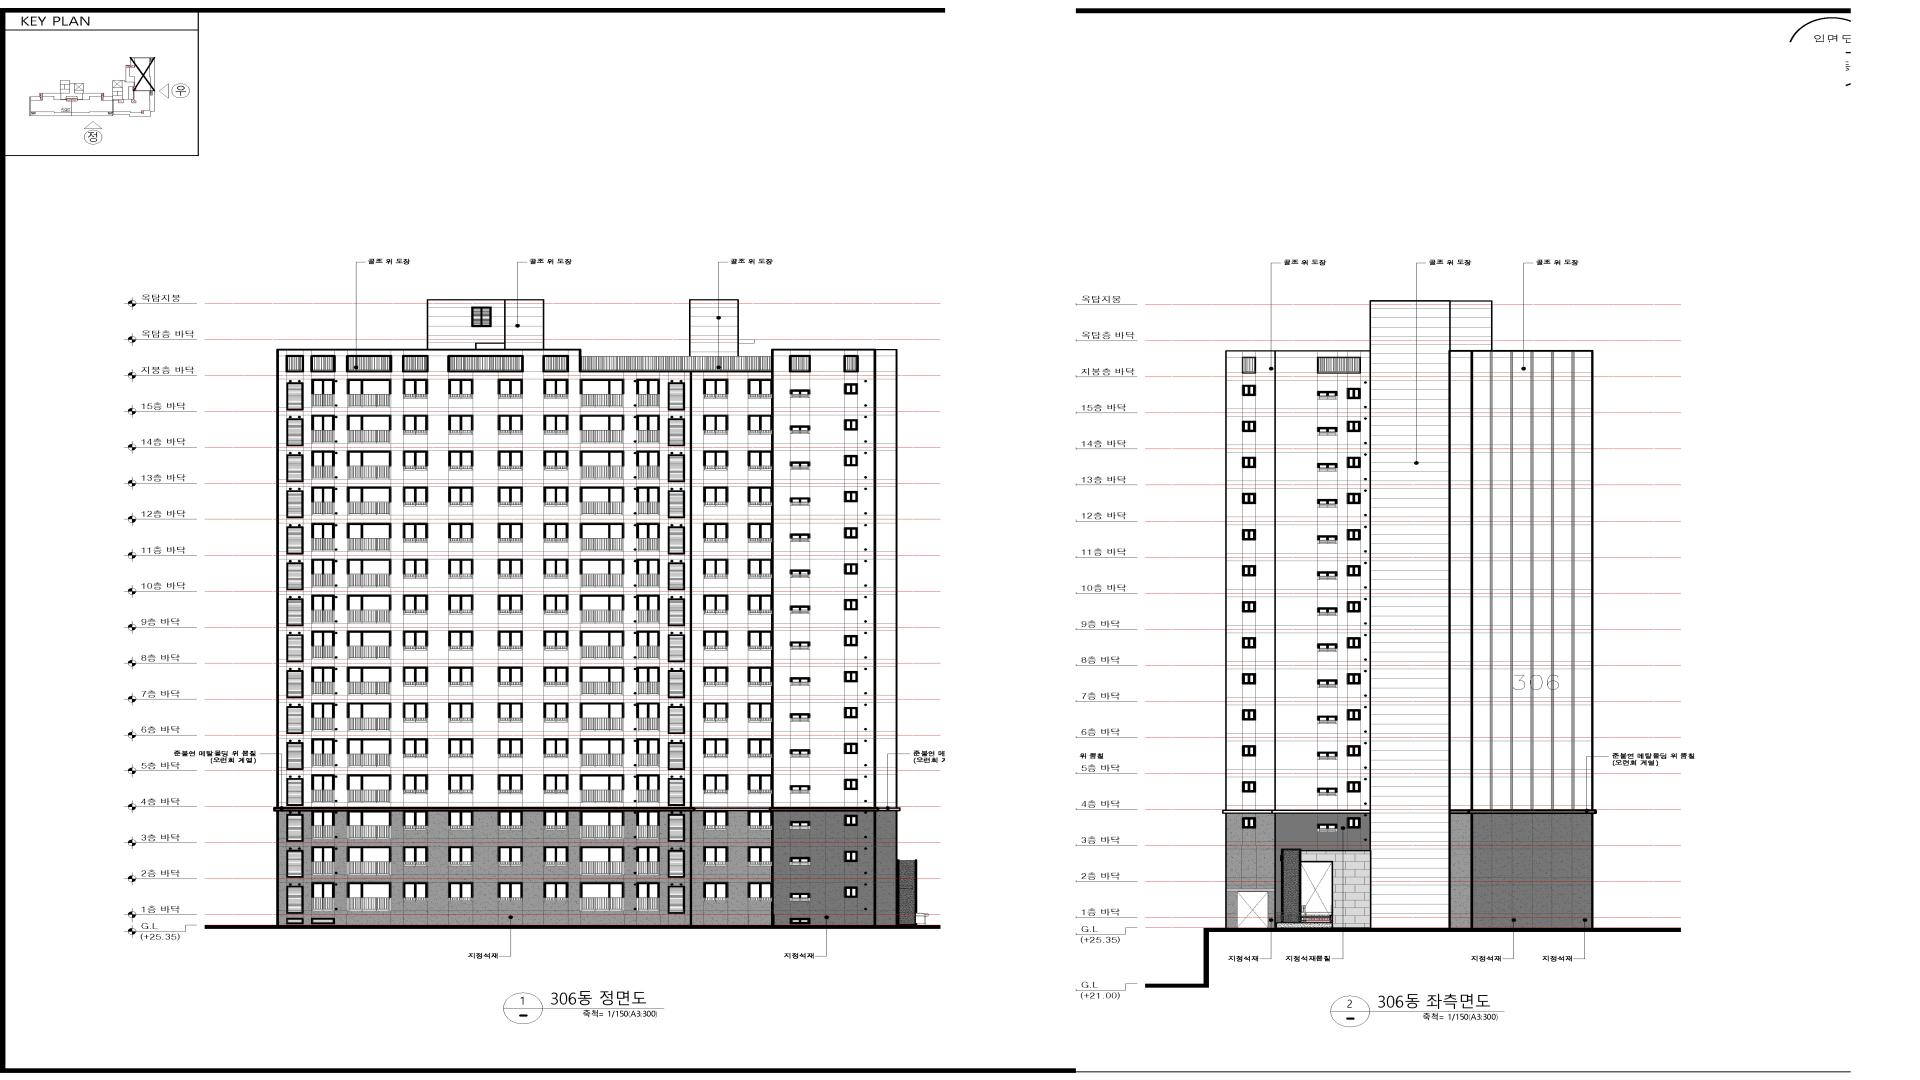door: (1300, 861, 1333, 918), (1237, 892, 1268, 928)
wall: (276, 299, 899, 929), (1226, 300, 1593, 932)
window: (447, 355, 524, 372), (580, 378, 625, 407), (347, 415, 392, 444), (347, 486, 392, 515), (347, 522, 392, 551), (347, 702, 392, 731), (347, 846, 392, 875), (347, 882, 391, 911), (580, 882, 624, 911), (580, 846, 624, 875), (580, 810, 624, 839), (580, 774, 624, 803), (580, 738, 624, 767), (580, 702, 624, 731), (580, 666, 624, 695), (580, 630, 624, 659), (580, 594, 624, 623), (580, 559, 624, 588), (580, 523, 624, 552), (580, 486, 624, 515), (580, 450, 624, 479), (580, 415, 624, 444), (347, 378, 391, 407), (347, 450, 391, 479), (347, 558, 391, 587), (347, 595, 391, 624), (347, 630, 391, 659), (347, 666, 391, 695), (347, 738, 391, 767), (347, 774, 391, 803), (347, 810, 391, 839), (346, 355, 393, 372), (1317, 357, 1361, 374), (311, 522, 335, 552), (311, 414, 335, 444), (311, 378, 335, 408), (636, 882, 660, 911), (636, 846, 660, 875), (636, 810, 660, 839), (636, 774, 660, 803), (636, 738, 660, 767), (636, 702, 660, 731), (636, 630, 660, 659), (636, 559, 660, 588), (636, 523, 660, 552), (636, 486, 660, 515), (636, 378, 660, 407), (311, 882, 335, 911), (311, 846, 335, 875), (311, 810, 335, 839), (311, 738, 335, 767), (312, 666, 336, 695), (312, 630, 336, 659), (311, 559, 335, 588), (311, 486, 335, 515), (311, 450, 335, 479), (312, 702, 335, 732), (312, 594, 335, 624), (636, 667, 660, 695), (636, 595, 660, 623), (636, 451, 660, 479), (636, 415, 660, 443), (312, 774, 335, 803), (286, 523, 304, 555), (286, 702, 304, 734), (286, 738, 304, 770), (286, 810, 304, 842), (286, 846, 304, 878), (286, 882, 304, 914), (286, 379, 304, 410), (286, 415, 304, 446), (286, 451, 304, 482), (286, 487, 304, 518), (286, 559, 304, 590), (286, 595, 304, 626), (286, 631, 304, 662), (286, 775, 304, 806), (668, 882, 685, 914), (668, 846, 685, 878), (668, 810, 685, 842), (668, 774, 685, 806), (668, 738, 685, 770), (668, 702, 685, 734), (668, 523, 685, 555), (668, 414, 685, 446), (668, 379, 685, 411), (287, 667, 304, 698), (668, 667, 685, 698), (668, 631, 685, 662), (668, 595, 685, 626), (668, 559, 685, 590), (668, 487, 685, 518), (668, 451, 685, 482), (403, 882, 429, 902), (497, 631, 523, 651), (497, 702, 523, 722), (543, 882, 569, 902), (543, 774, 569, 794), (543, 738, 569, 758), (543, 702, 569, 722), (543, 630, 569, 650), (497, 379, 523, 399), (497, 450, 523, 470), (497, 559, 523, 579), (747, 379, 773, 399), (747, 450, 773, 470), (747, 666, 773, 686), (747, 738, 773, 758), (747, 774, 773, 794), (747, 810, 773, 830), (747, 846, 773, 866), (747, 882, 773, 902), (403, 846, 428, 866), (403, 810, 428, 830), (498, 738, 523, 758), (498, 774, 523, 794), (498, 810, 523, 830), (498, 846, 523, 866), (498, 882, 523, 902), (543, 846, 568, 866), (544, 810, 569, 830), (543, 559, 568, 579), (543, 523, 568, 543), (543, 486, 568, 506), (543, 379, 568, 399), (703, 882, 728, 902), (703, 846, 728, 866), (703, 810, 728, 830), (703, 774, 728, 794), (703, 738, 728, 758), (703, 702, 728, 722), (703, 666, 728, 686), (703, 630, 728, 650), (703, 559, 728, 579), (703, 523, 728, 543), (403, 774, 428, 794), (403, 738, 428, 758), (403, 666, 428, 686), (403, 630, 428, 650), (403, 594, 428, 614), (403, 559, 428, 579), (403, 523, 428, 543), (403, 486, 428, 506), (403, 450, 428, 470), (448, 882, 473, 902), (448, 846, 473, 866), (448, 810, 473, 830), (448, 774, 473, 794), (448, 738, 473, 758), (448, 630, 473, 650), (448, 559, 473, 579), (448, 487, 473, 507), (448, 451, 473, 471), (448, 379, 473, 399), (498, 414, 523, 434), (498, 486, 523, 506), (498, 594, 523, 614), (703, 486, 728, 506), (703, 450, 728, 470), (703, 415, 728, 435), (703, 379, 728, 399), (748, 415, 773, 435), (747, 523, 772, 543), (748, 559, 773, 579), (543, 595, 569, 614), (543, 415, 569, 434), (448, 703, 474, 722), (747, 487, 773, 506), (747, 595, 773, 614), (747, 631, 773, 650), (498, 667, 523, 686), (543, 667, 568, 686), (543, 451, 568, 470), (703, 595, 728, 614), (403, 703, 428, 722), (403, 415, 428, 434), (403, 379, 428, 398), (448, 667, 473, 686), (448, 595, 473, 614), (448, 523, 473, 542), (448, 415, 473, 434), (498, 523, 523, 542), (748, 703, 773, 722), (402, 355, 429, 372), (310, 355, 336, 372), (543, 355, 569, 372), (471, 307, 492, 327), (789, 355, 811, 372), (286, 355, 304, 372), (843, 355, 859, 372), (1242, 357, 1256, 374), (789, 389, 810, 398), (1317, 571, 1338, 580), (1317, 607, 1338, 616), (1317, 643, 1338, 652), (790, 749, 810, 758), (790, 677, 810, 686), (790, 641, 810, 650), (790, 605, 810, 614), (790, 533, 810, 542), (790, 497, 810, 506), (790, 461, 810, 470), (790, 425, 810, 434), (844, 383, 858, 395), (844, 419, 858, 431), (844, 527, 858, 539), (844, 563, 858, 575), (789, 713, 810, 721), (1242, 817, 1256, 829), (1242, 781, 1256, 793), (1242, 637, 1256, 649), (1347, 817, 1361, 829), (1347, 781, 1361, 793), (1347, 745, 1361, 757), (1347, 709, 1361, 721), (1347, 673, 1361, 685), (1347, 601, 1361, 613), (1317, 391, 1338, 399), (1317, 427, 1338, 435), (1317, 463, 1338, 471), (1317, 499, 1338, 507), (1317, 536, 1338, 544), (1317, 680, 1338, 688), (1317, 716, 1338, 724), (1317, 752, 1338, 760), (1317, 788, 1338, 796), (1317, 824, 1338, 832), (790, 893, 810, 901), (790, 857, 810, 865), (790, 821, 810, 829), (790, 785, 810, 793), (790, 570, 810, 578), (844, 455, 858, 466), (844, 491, 858, 502), (844, 599, 858, 610), (844, 635, 858, 646), (844, 671, 858, 682), (844, 707, 858, 718), (844, 743, 858, 754), (844, 779, 858, 790), (844, 815, 858, 826), (844, 851, 858, 862), (844, 887, 858, 898), (1242, 745, 1256, 756), (1242, 709, 1256, 720), (1242, 673, 1256, 684), (1242, 601, 1256, 612), (1242, 565, 1256, 576), (1242, 529, 1256, 540), (1242, 493, 1256, 504), (1242, 457, 1256, 468), (1242, 421, 1256, 432), (1242, 385, 1256, 396), (1347, 637, 1361, 648), (1347, 565, 1361, 576), (1347, 529, 1361, 540), (1347, 493, 1361, 504), (1347, 457, 1361, 468), (1347, 421, 1361, 432), (1346, 388, 1360, 399), (311, 918, 335, 924), (790, 918, 810, 924), (286, 918, 304, 924)
